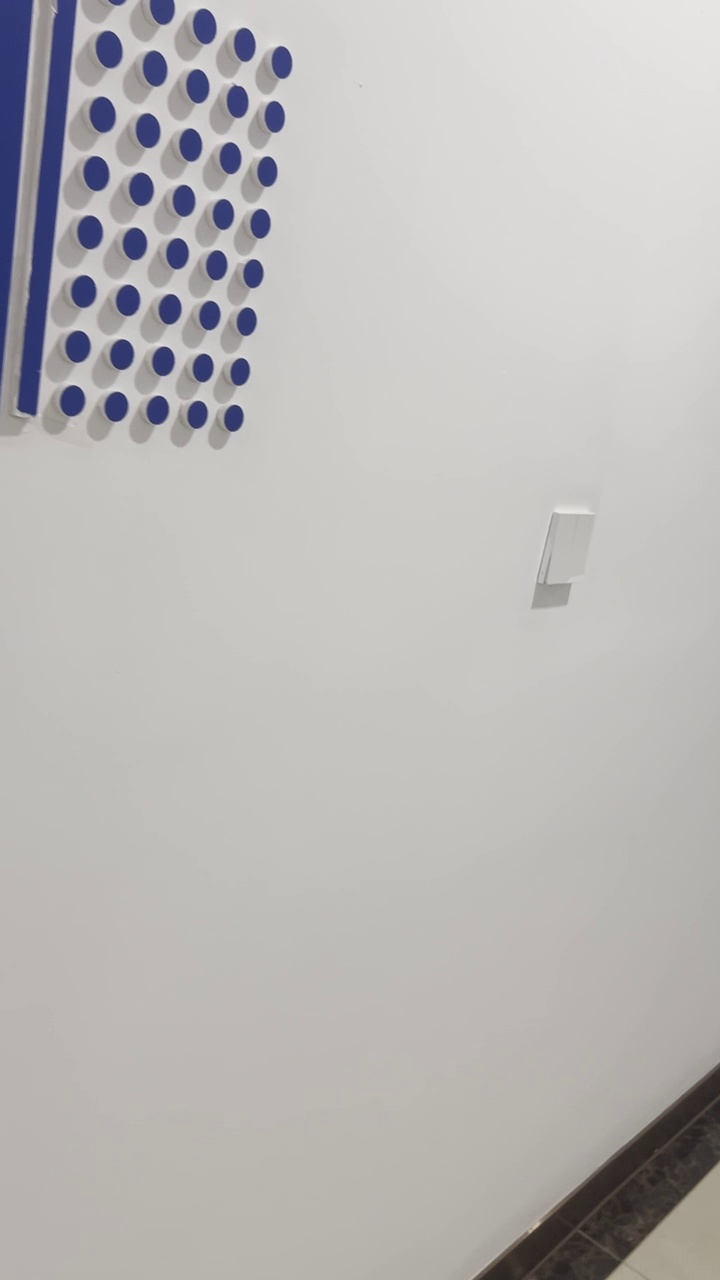button: (534, 501, 594, 588)
